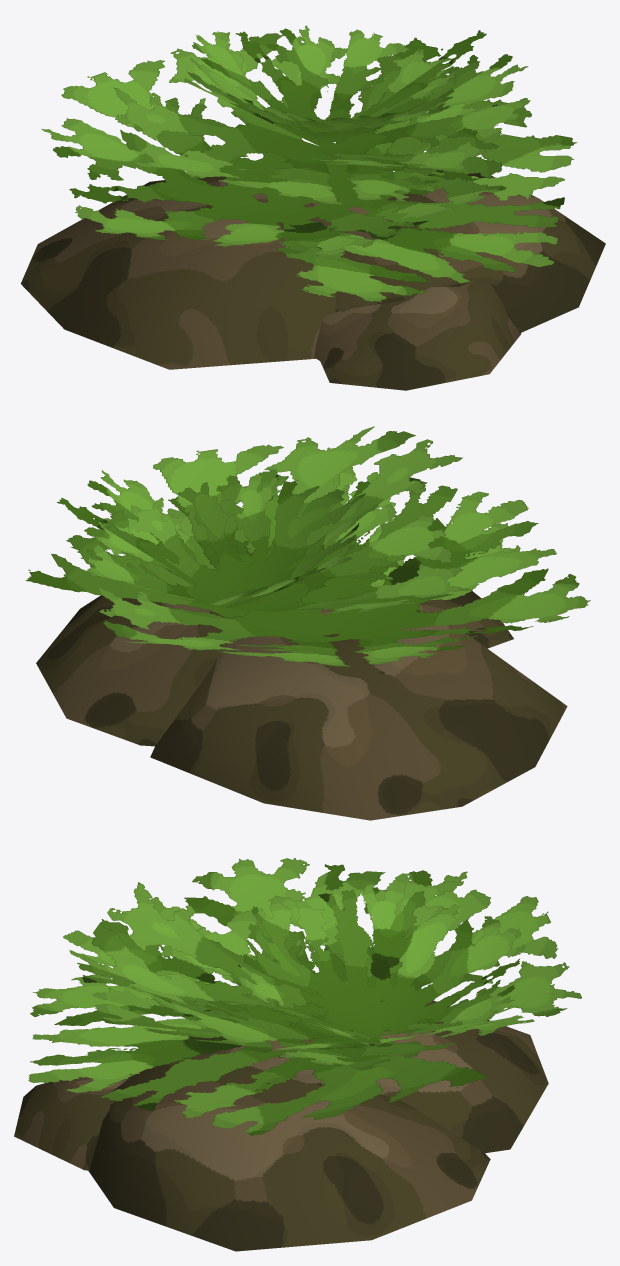
Rendered from Elkhorn Cora 3_preview_3DS_simplified.glb.
3 views of the same model, one above another, from view 1: azimuth 30°, elevation 25°; view 2: azimuth 150°, elevation 25°; view 3: azimuth 270°, elevation 25° (orthographic). The views are drawn at different scales.
Visible parts, largest first — view 1: Marine Park Empire model; view 2: Marine Park Empire model; view 3: Marine Park Empire model.
Boxes of the visible parts, box(x1,y1,x2,y2) form: Marine Park Empire model: box(21, 25, 605, 390); Marine Park Empire model: box(25, 426, 590, 820); Marine Park Empire model: box(14, 858, 581, 1251).
Size of the model in its own units: 120 by 43.81 by 113.
2 materials, 2 textured.
